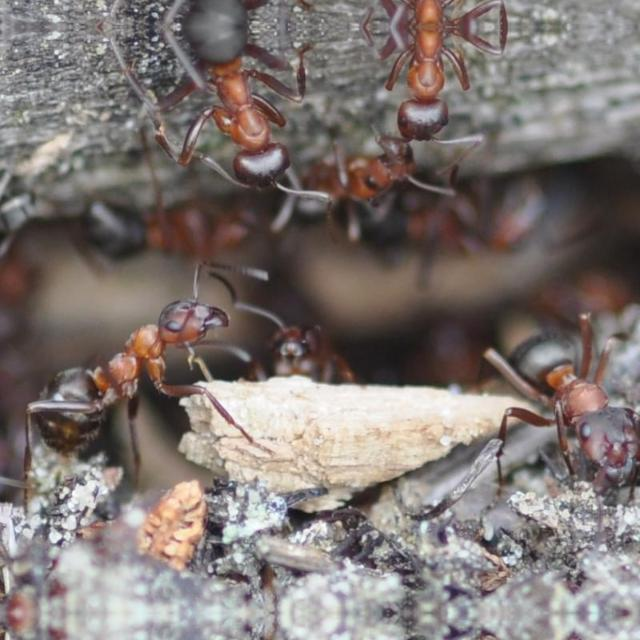Formica: (0, 245, 270, 498), (128, 26, 336, 202), (481, 302, 639, 488), (348, 26, 514, 166), (278, 148, 467, 212)
